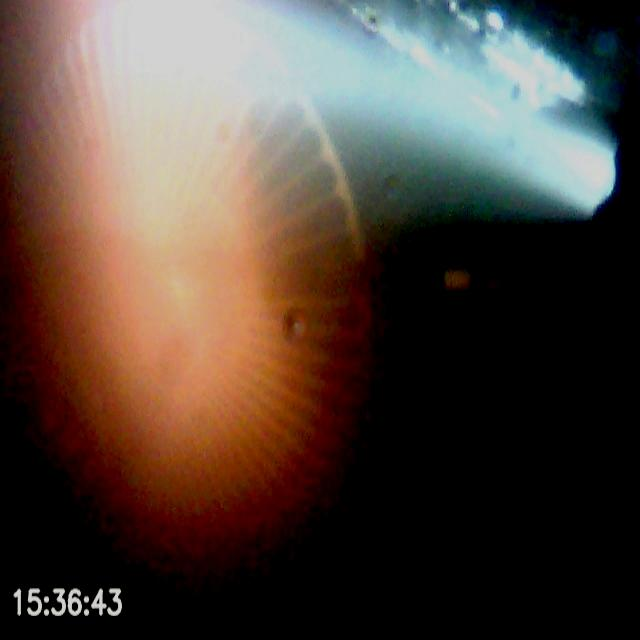white-dots: (440, 260, 556, 304)
